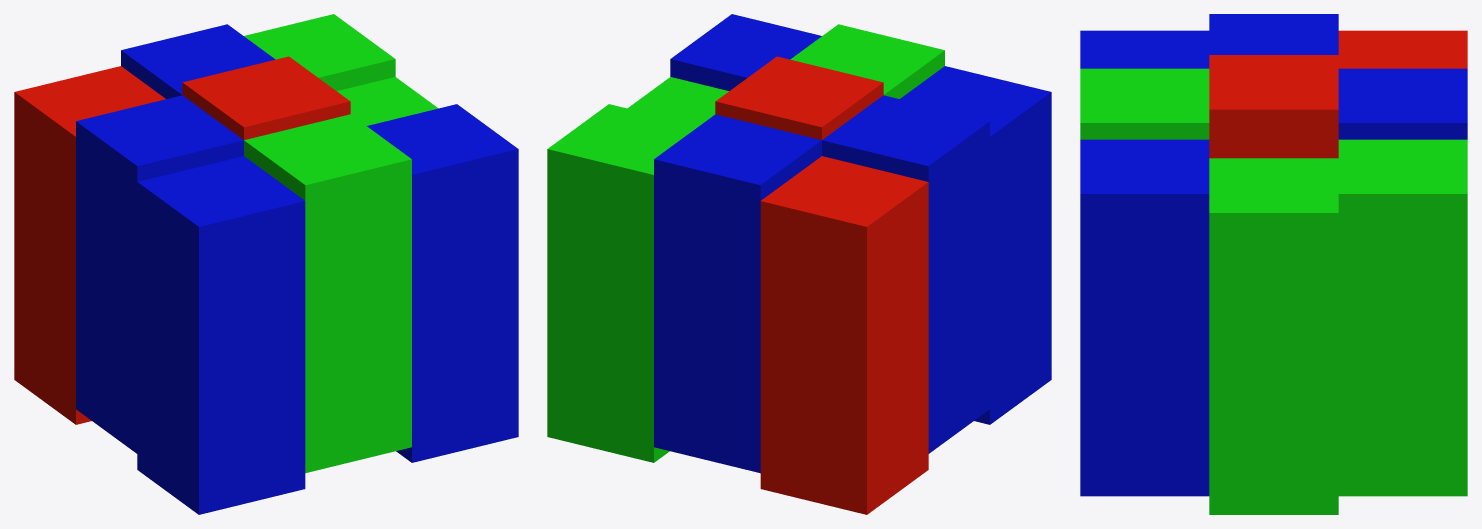
The model's file is Dalle.fbx.
The picture shows the model from 3 angles, left to right: view 1: azimuth 30°, elevation 25°; view 2: azimuth 150°, elevation 25°; view 3: azimuth 270°, elevation 25°; orthographic projection. The views are drawn at different scales.
Parts seen in each view (by area): view 1: Dalle; view 2: Dalle; view 3: Dalle.
Boxes of the visible parts, box(x1,y1,x2,y2) form: Dalle: box(14, 14, 518, 514); Dalle: box(547, 14, 1051, 514); Dalle: box(1080, 14, 1467, 514).
Size of the model in its own units: 100 by 100 by 100.
